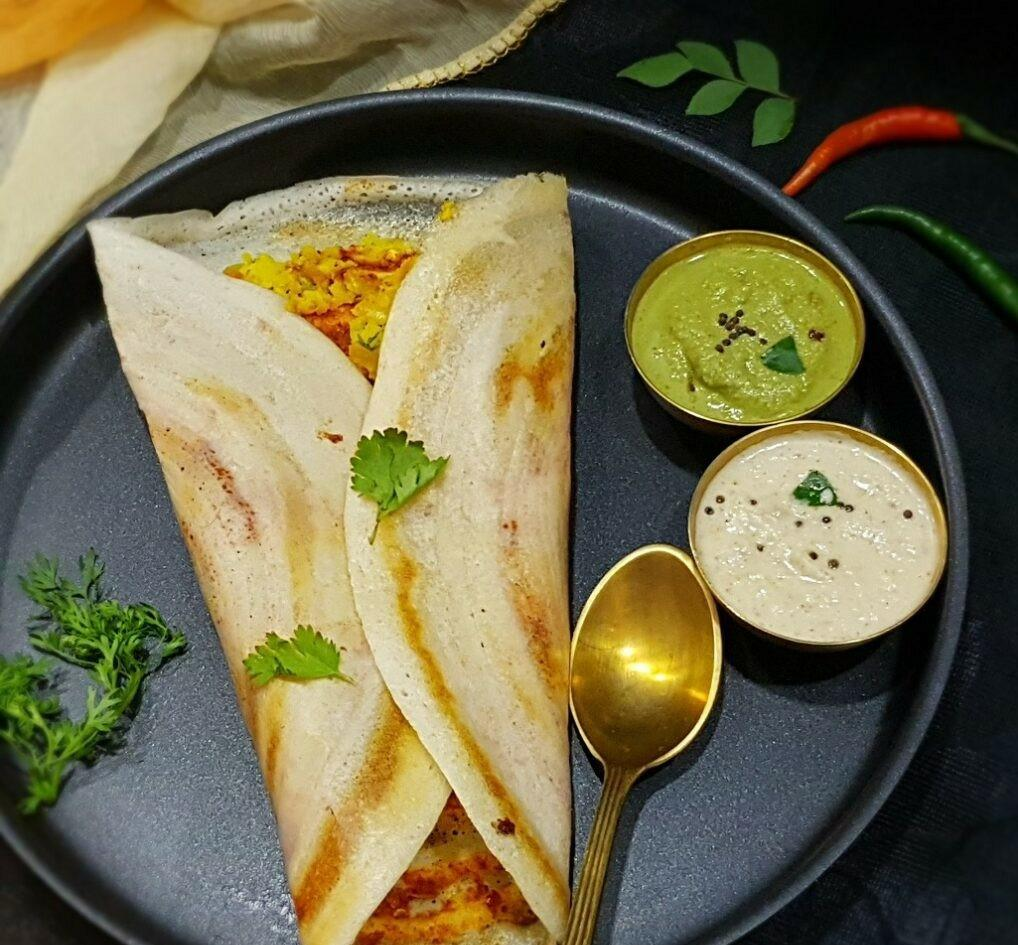CoconutChutney: (694, 436, 943, 642)
Dosa: (88, 172, 576, 945)
